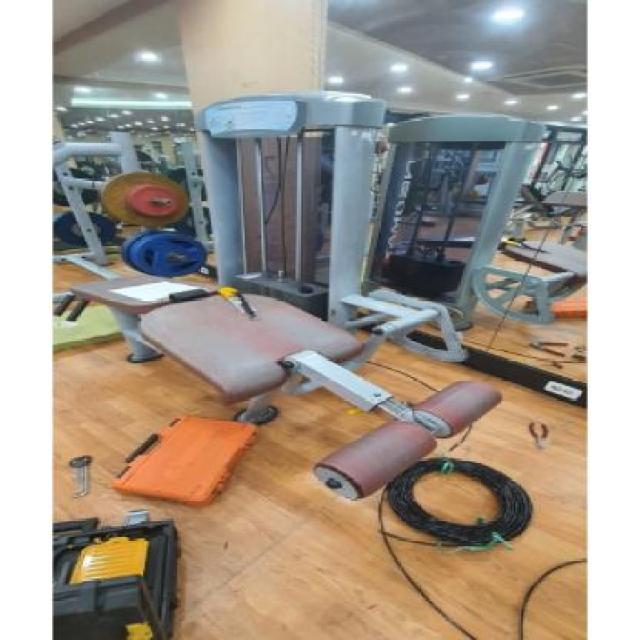reg curl machine: (42, 86, 526, 505)
